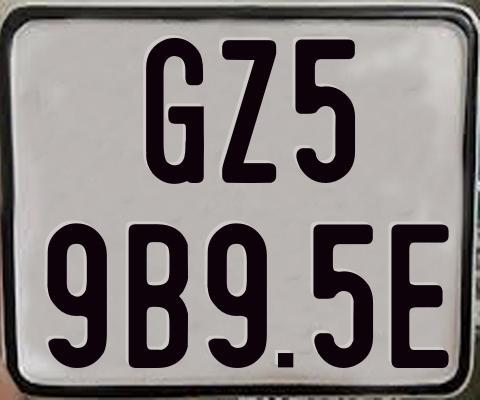5: (313, 221, 378, 366), (295, 36, 360, 180)
9: (46, 221, 112, 367), (205, 221, 268, 372)
B: (125, 222, 185, 369)
E: (388, 221, 447, 366)
G: (146, 37, 205, 189)
Z: (222, 38, 277, 187)
